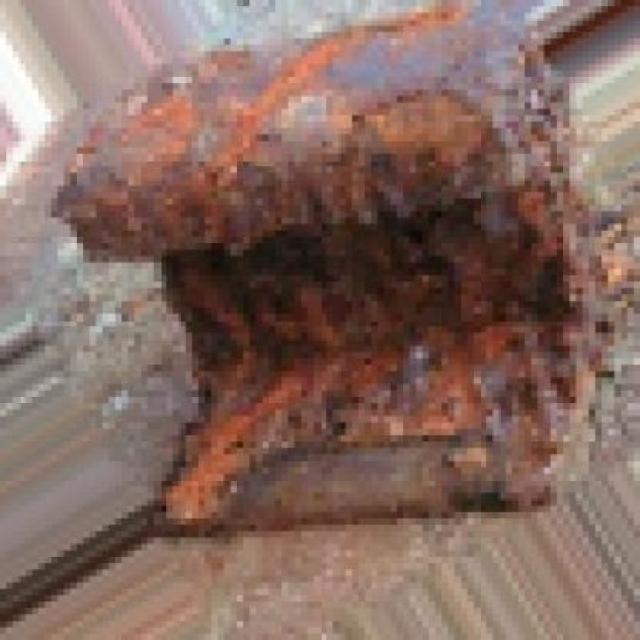defective: (31, 39, 616, 518)
